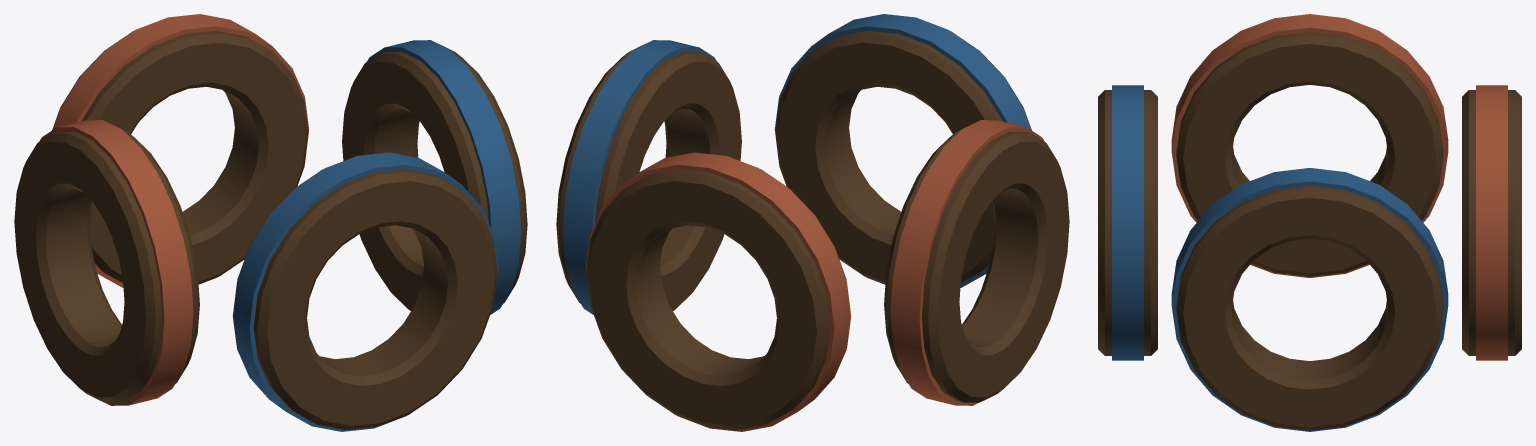
The model's file is rcs4_coil.obj.
3 renders of one model, left to right at view 1: azimuth 30°, elevation 25°; view 2: azimuth 150°, elevation 25°; view 3: azimuth 270°, elevation 25°, orthographic. The views are drawn at different scales.
Visible parts, largest first — view 1: rcs4_coil; view 2: rcs4_coil; view 3: rcs4_coil.
Boxes of the visible parts, left/top/right/bottom form: rcs4_coil: left=14, top=14, right=527, bottom=431; rcs4_coil: left=556, top=14, right=1069, bottom=431; rcs4_coil: left=1098, top=14, right=1521, bottom=431.
Bounding box in the file's own units: 0.92 × 0.6 × 0.92.
